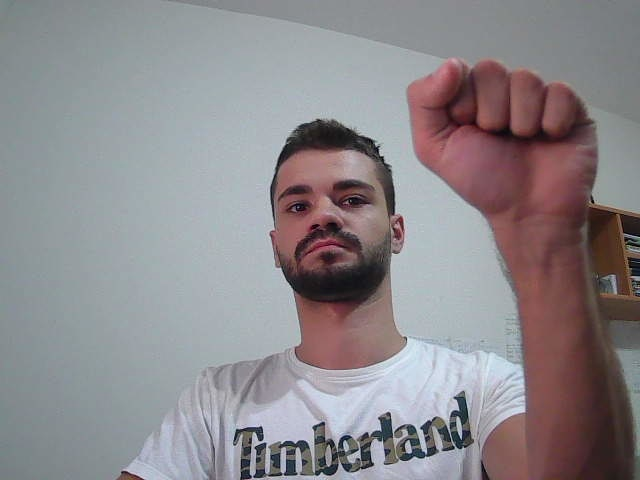a: (402, 51, 619, 443)
